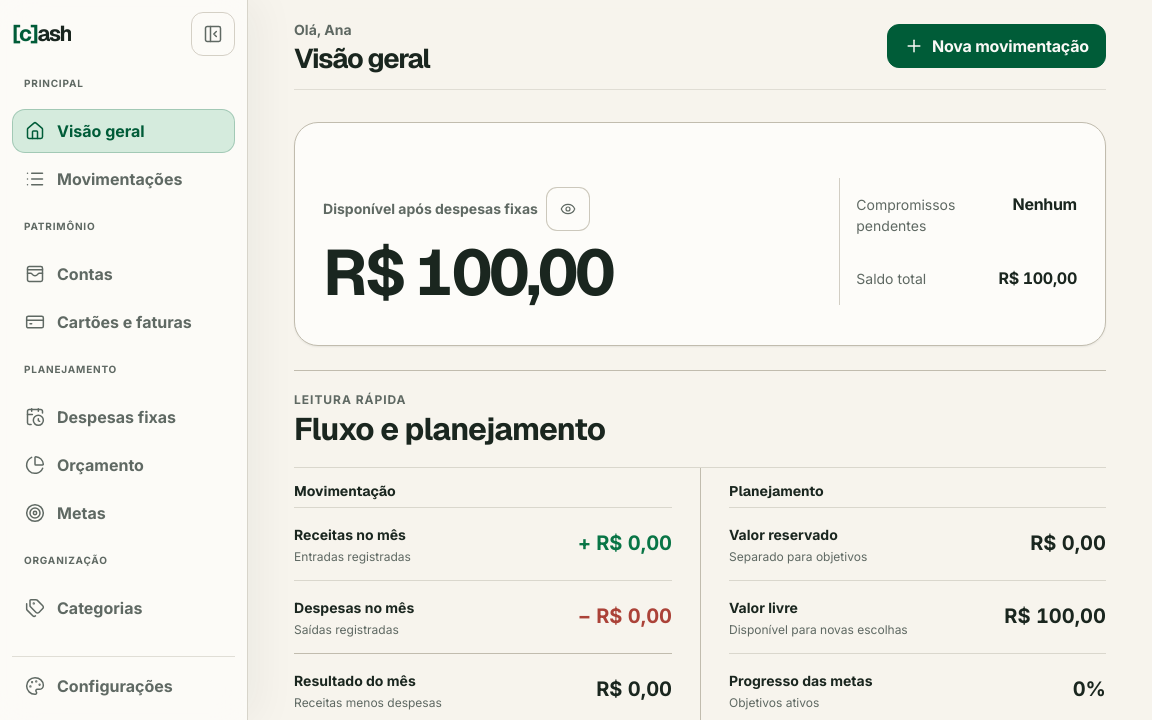
Test: mantém uma única ação contextual no estado vazio de metas
Step 1. Click the button "Metas" → (124, 513), box 12,491 -> 235,535
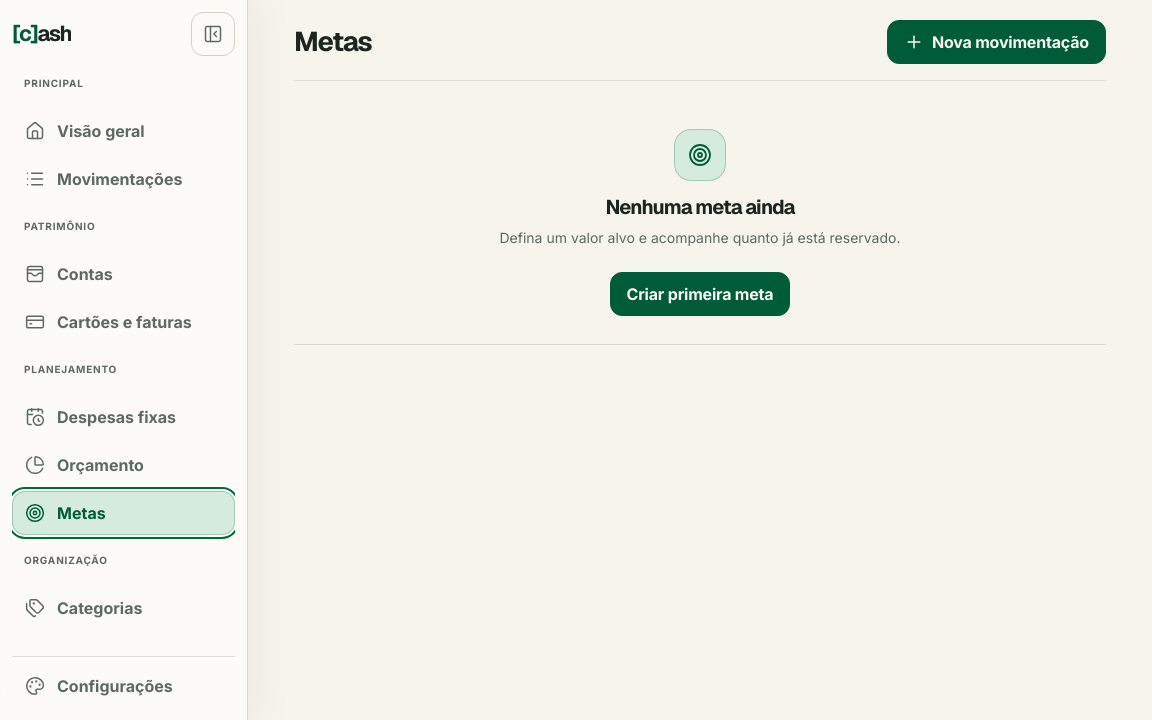
Expected: the button "Nova movimentação" is enabled, 887,20 -> 1106,64
Expected: the heading "Nenhuma meta ainda" is shown, 605,197 -> 795,219
Step 2. Click the button "Criar primeira meta" → (700, 294), box 610,272 -> 790,316
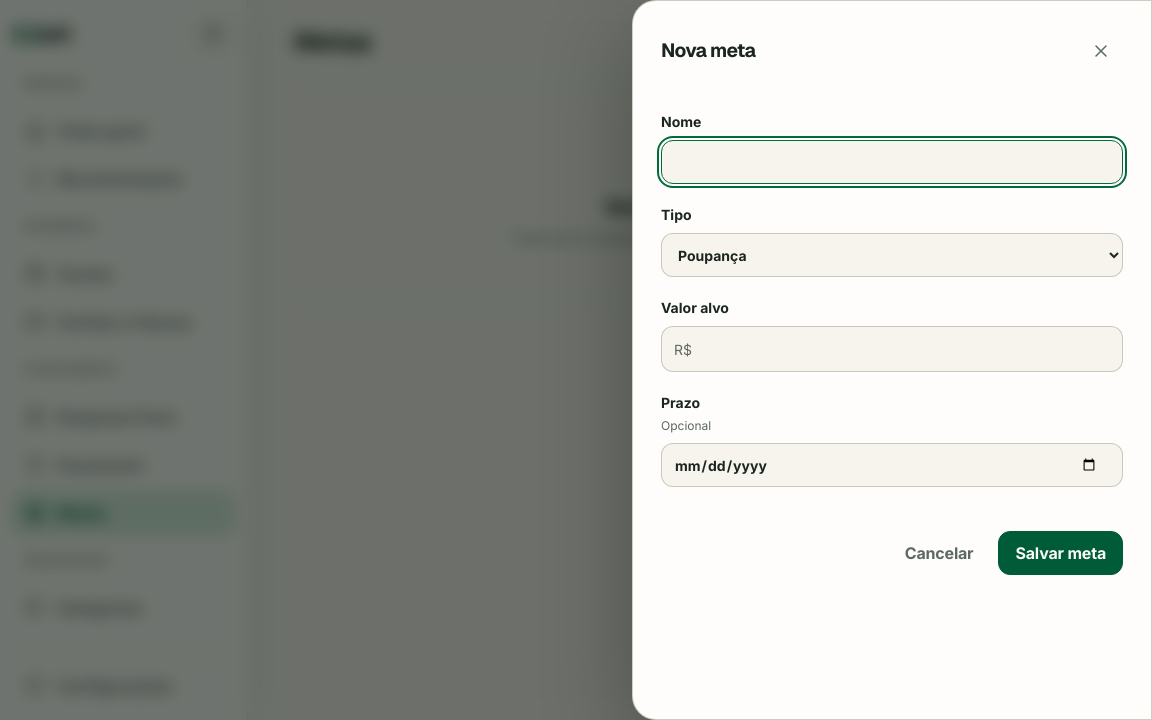
Expected: the heading "Nova meta" is shown, 661,38 -> 755,63
Expected: the button "Criar primeira meta" is gone
